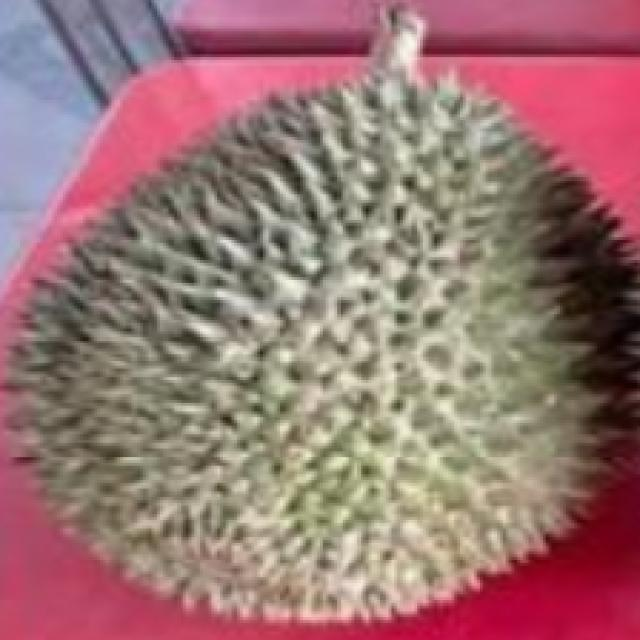d24: (43, 22, 603, 590)
